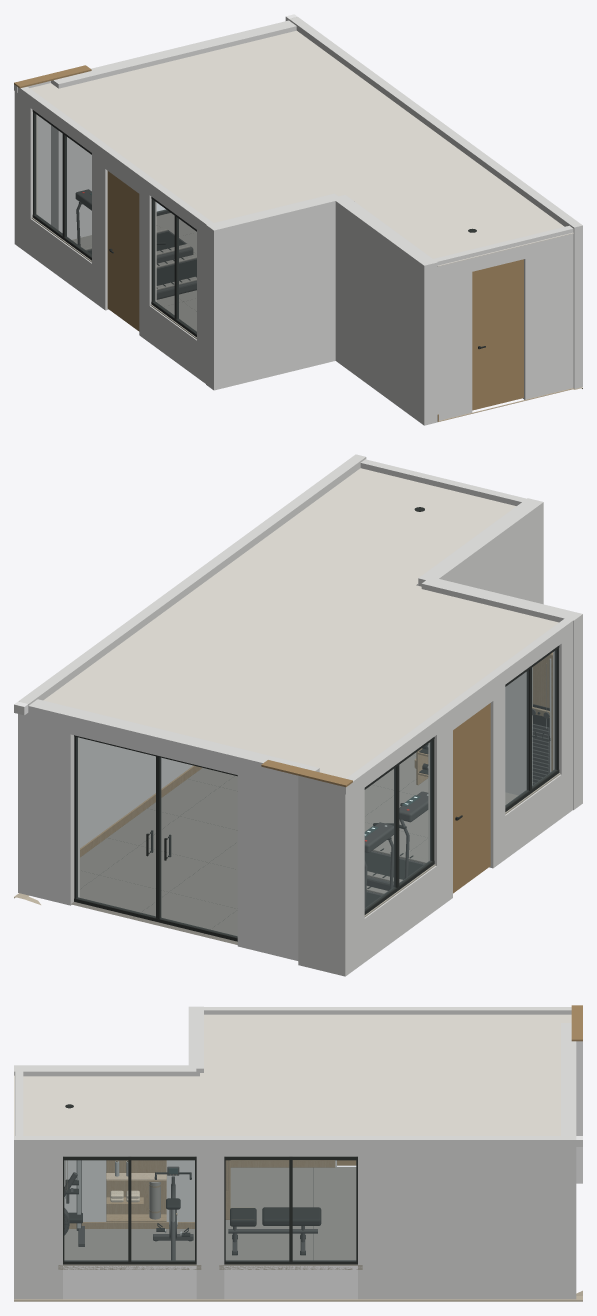
The picture shows the model from 3 angles, top to bottom: view 1: azimuth 30°, elevation 25°; view 2: azimuth 150°, elevation 25°; view 3: azimuth 270°, elevation 25°; orthographic projection. The views are drawn at different scales.
Visible parts, largest first — view 1: Gym 01 | ivory ceiling finish.001, Proposal | Garage north store separation end pier.001, Proposal | Garage east separation end pier.001, Proposal | Boot utility partition end pier.001, Proposal | Boot utility inward door leaf.001, Proposal | Boot utility partition pier 0.001, Proposal | Gym west partition window 2 glass.001, Proposal | Gym west partition door 1 leaf.001, Proposal | Gym west partition window 0 glass.001, Proposal | North ground facade east pier 0.001, Proposal | Storey edge closure | east main wing.001, Proposal | Gym west partition pier 2.001 (+16 smaller); view 2: Gym 01 | ivory ceiling finish.001, Gym 01 | continuous rubber floor.002, Proposal | Internal garden double doors entry right glass.00, Proposal | Internal garden double doors entry left glass.001, Proposal | North ground facade east pier 0.001, Proposal | North ground facade east end pier.001, Proposal | North ground facade end pier.001, Proposal | New wing east end pier.001, Proposal | Gym west partition window 2 glass.001, Proposal | Garage east separation end pier.001, Proposal | Garage north store separation end pier.001, Proposal | Gym west partition door 1 leaf.001 (+21 smaller); view 3: Gym 01 | ivory ceiling finish.001, Proposal | New wing east end pier.001, Gym 01 | continuous rubber floor.002, Proposal | New wing east window 1 glass.001, Proposal | New wing east window 2 glass.001, Proposal | New wing east pier 1.001, Proposal | Garage east separation end pier.001, Proposal | New wing east pier 2.001, Proposal | New wing east sill 1.001, Proposal | New wing east sill 2.001, Proposal | Storey edge closure | east main wing.001, Proposal | New wing east head 1.001 (+28 smaller).
Boxes of the visible parts, x1,y1,x2,y2 form: Gym 01 | ivory ceiling finish.001: [30, 30, 564, 258]; Proposal | Garage north store separation end pier.001: [206, 193, 341, 390]; Proposal | Garage east separation end pier.001: [334, 195, 437, 425]; Proposal | Boot utility partition end pier.001: [521, 225, 573, 399]; Proposal | Boot utility inward door leaf.001: [472, 259, 523, 410]; Proposal | Boot utility partition pier 0.001: [433, 250, 472, 420]; Proposal | Gym west partition window 2 glass.001: [35, 114, 91, 255]; Proposal | Gym west partition door 1 leaf.001: [107, 171, 139, 331]; Proposal | Gym west partition window 0 glass.001: [154, 201, 196, 332]; Proposal | North ground facade east pier 0.001: [51, 63, 119, 239]; Proposal | Storey edge closure | east main wing.001: [289, 17, 582, 228]; Proposal | Gym west partition pier 2.001: [92, 139, 111, 310]; Gym 01 | ivory ceiling finish.001: [43, 468, 558, 778]; Gym 01 | continuous rubber floor.002: [71, 752, 518, 944]; Proposal | Internal garden double doors entry right glass.00: [77, 737, 155, 916]; Proposal | Internal garden double doors entry left glass.001: [161, 758, 237, 936]; Proposal | North ground facade east pier 0.001: [237, 750, 319, 960]; Proposal | North ground facade east end pier.001: [18, 699, 79, 905]; Proposal | North ground facade end pier.001: [306, 777, 349, 976]; Proposal | New wing east end pier.001: [18, 610, 159, 895]; Proposal | Gym west partition window 2 glass.001: [365, 742, 430, 908]; Proposal | Garage east separation end pier.001: [418, 498, 543, 604]; Proposal | Garage north store separation end pier.001: [421, 577, 582, 810]; Proposal | Gym west partition door 1 leaf.001: [453, 703, 490, 893]; Gym 01 | ivory ceiling finish.001: [23, 1014, 571, 1135]; Proposal | New wing east end pier.001: [358, 1141, 576, 1299]; Gym 01 | continuous rubber floor.002: [64, 1167, 356, 1260]; Proposal | New wing east window 1 glass.001: [64, 1160, 194, 1260]; Proposal | New wing east window 2 glass.001: [226, 1160, 355, 1260]; Proposal | New wing east pier 1.001: [14, 1141, 62, 1299]; Proposal | Garage east separation end pier.001: [14, 1065, 196, 1221]; Proposal | New wing east pier 2.001: [196, 1141, 224, 1299]; Proposal | New wing east sill 1.001: [63, 1266, 196, 1299]; Proposal | New wing east sill 2.001: [224, 1266, 357, 1299]; Proposal | Storey edge closure | east main wing.001: [14, 1136, 576, 1141]; Proposal | New wing east head 1.001: [63, 1141, 196, 1156].
Size of the model in its own units: 4.77 by 2.66 by 8.5.
24 materials, 5 textured.
